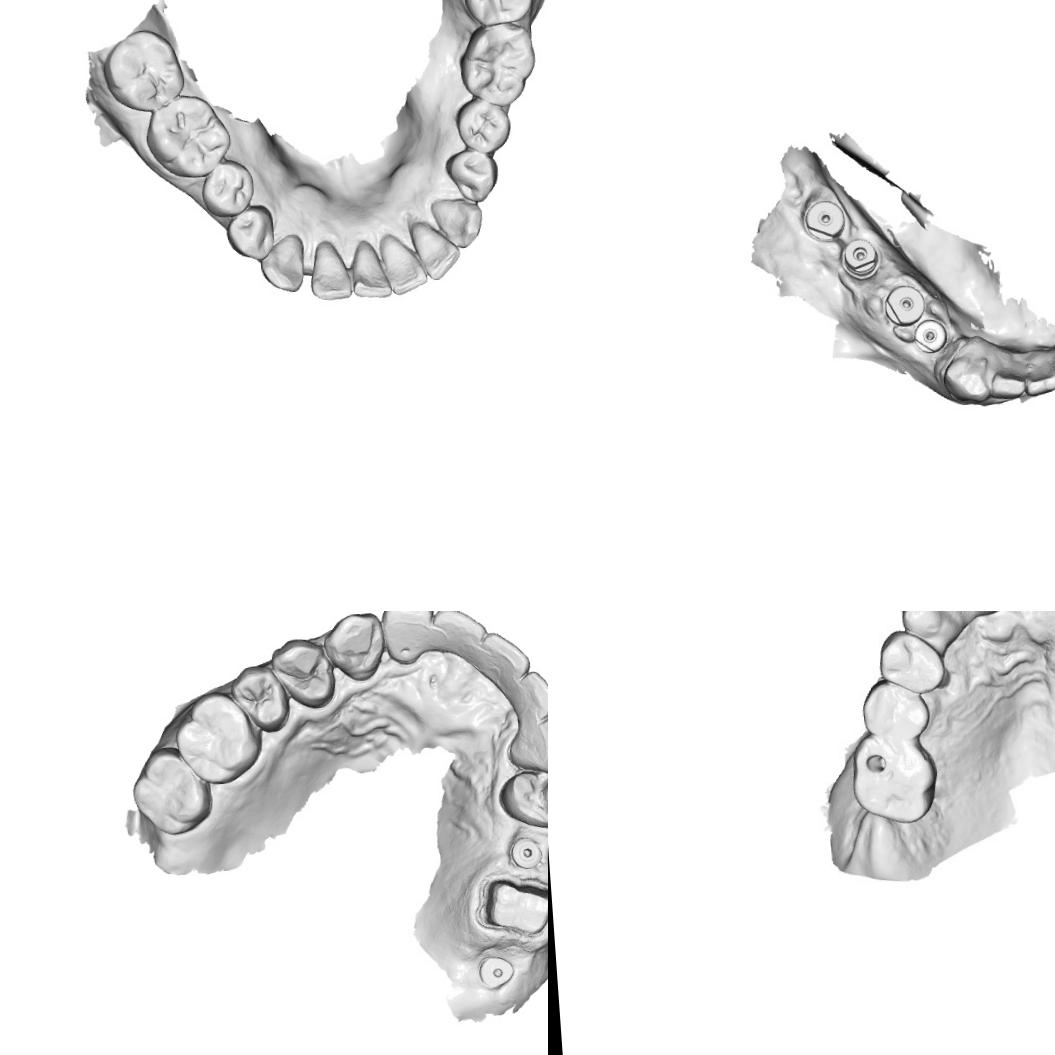canine: (319, 611, 386, 686), (938, 348, 998, 406), (428, 196, 484, 250), (500, 712, 548, 775), (258, 233, 305, 294), (897, 611, 956, 639)
crown: (475, 872, 548, 941)
implant: (832, 230, 884, 280), (878, 276, 927, 326), (800, 193, 845, 240), (909, 314, 953, 356), (474, 953, 517, 995), (508, 831, 548, 873)
incisor: (466, 626, 534, 692), (409, 214, 463, 282), (380, 229, 429, 300), (306, 238, 356, 303), (379, 611, 436, 665), (348, 236, 395, 301), (497, 665, 548, 723), (431, 611, 490, 660), (989, 354, 1030, 399), (1021, 348, 1055, 397)
molar: (168, 685, 266, 788), (136, 92, 232, 181), (850, 733, 938, 828), (126, 742, 211, 840), (97, 24, 188, 115), (454, 18, 540, 106), (457, 0, 544, 35)
premolar: (264, 630, 338, 712), (857, 674, 930, 747), (873, 627, 947, 693), (230, 659, 292, 736), (451, 94, 513, 156), (493, 767, 548, 834), (442, 144, 502, 204), (198, 158, 256, 220), (222, 202, 276, 264)
